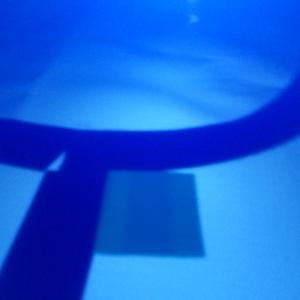bottom_right: (45, 130, 204, 257)
